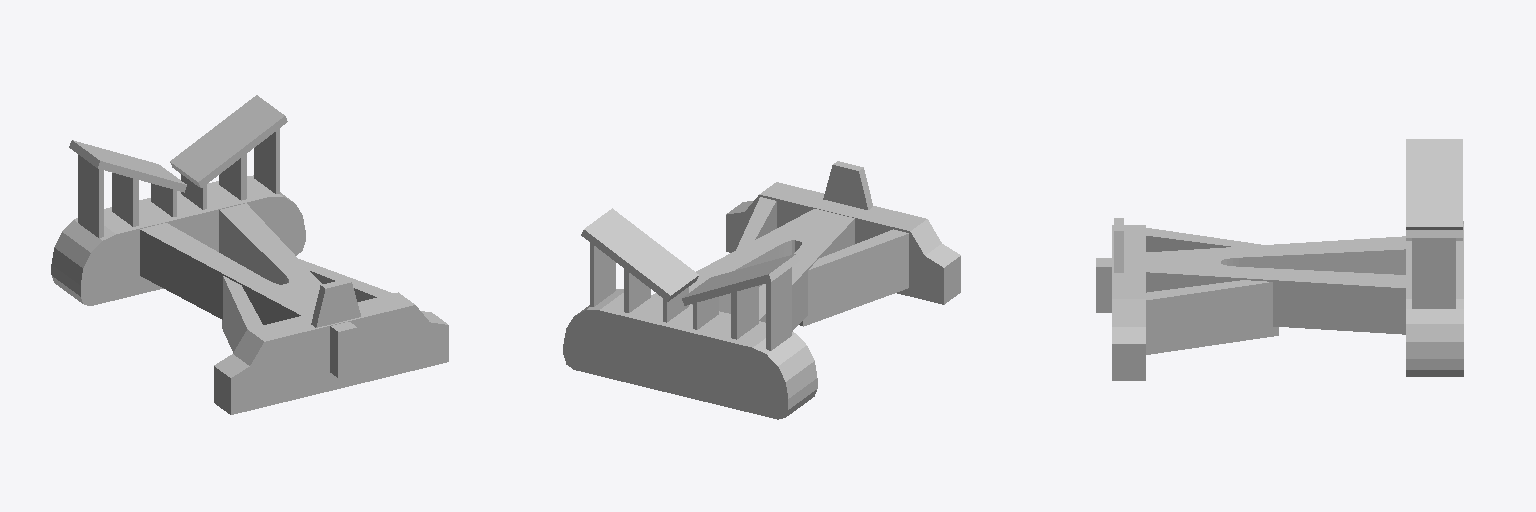
The model's file is catapult_M.obj.
3 views of the same model, side by side, from view 1: azimuth 30°, elevation 25°; view 2: azimuth 150°, elevation 25°; view 3: azimuth 270°, elevation 25° (orthographic).
Parts seen in each view (by area): view 1: 立方体.003; view 2: 立方体.003; view 3: 立方体.003.
Boxes of the visible parts, <box> form: 立方体.003: <box>51,95,448,414</box>; 立方体.003: <box>563,161,960,419</box>; 立方体.003: <box>1096,139,1463,380</box>.
Size of the model in its own units: 1.37 by 0.8289 by 1.94.